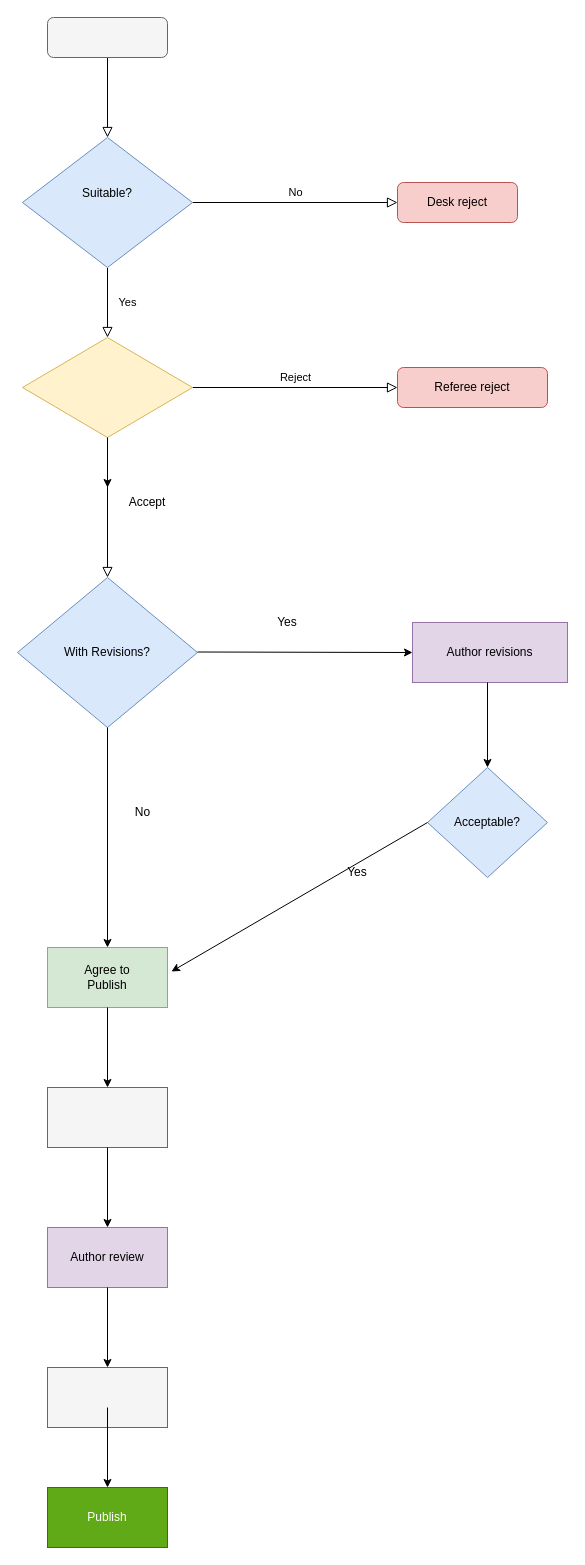
Image size: 585x1565. Some labels were removed from this diagram. The centre of each missing label's shape, as x and y in pixels:
"Copy edit" belongs at [107,1117].
"Formatting" belongs at [107,1397].
"Referee Verdict?" belongs at [107,387].
"Submission" belongs at [107,37].
